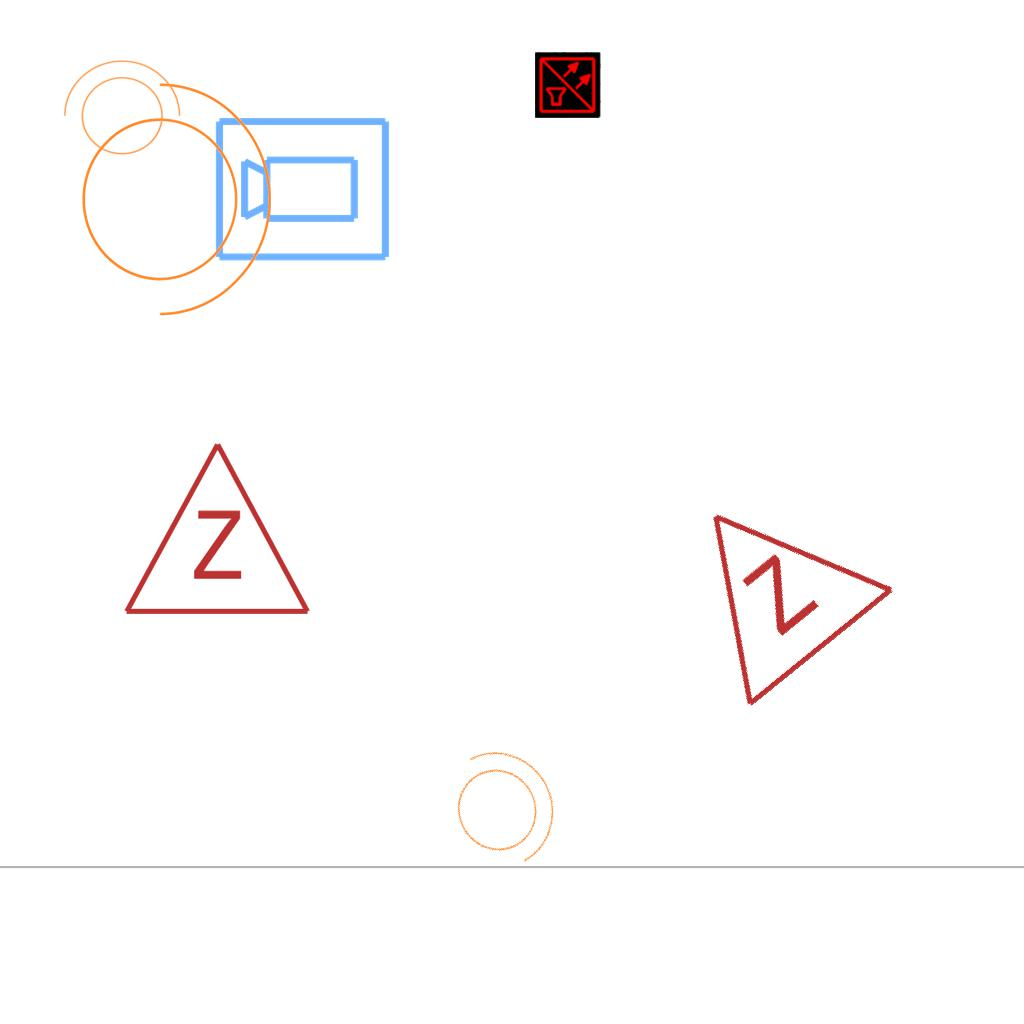KFO_Kamera_mit_Festobjektiv: (212, 111, 394, 265)
OKW_Multisensormelder_(Kombination_optischer_Rauch-Kahlenmonoxid_Waerme-Melder): (535, 52, 601, 118)
Scheinwerfer_fuer_Alarmbeleuchtung: (57, 61, 282, 325), (419, 720, 581, 890), (53, 55, 185, 167)
Zimmersignalleuchte: (627, 444, 907, 724), (117, 429, 313, 629)
